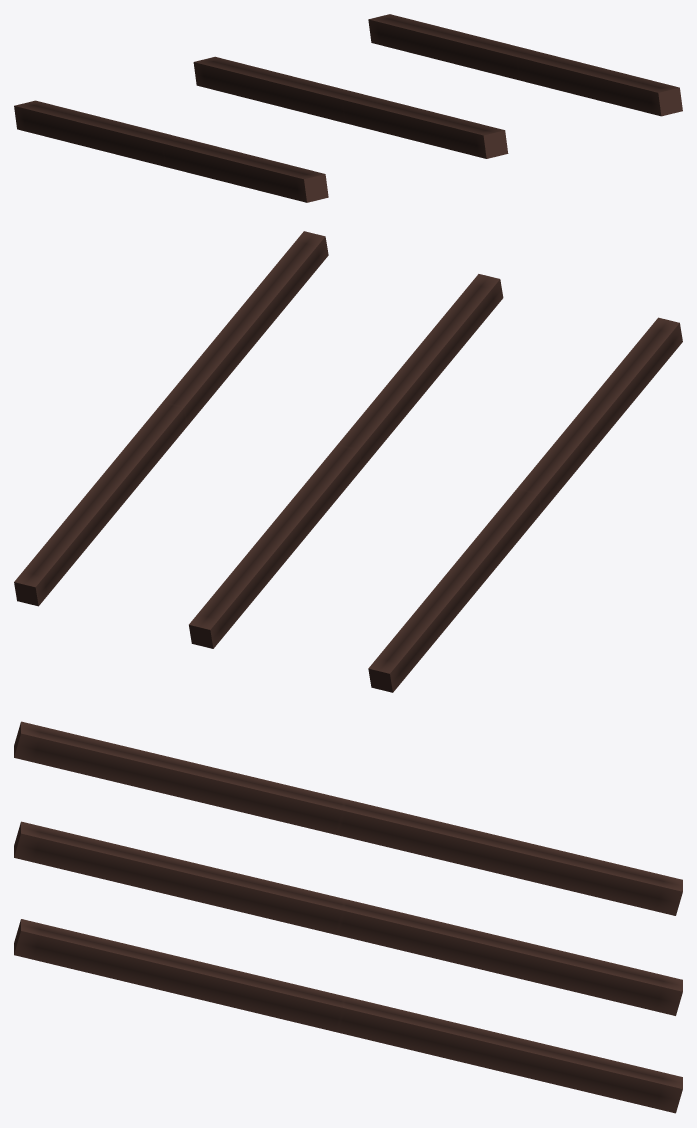
File: roof_beam_v3c001.fbx
3 views of the same model, one above another, from view 1: azimuth 30°, elevation 25°; view 2: azimuth 150°, elevation 25°; view 3: azimuth 270°, elevation 25° (orthographic). The views are drawn at different scales.
Visible parts, largest first — view 1: roof_beam_v3c001; view 2: roof_beam_v3c001; view 3: roof_beam_v3c001.
Boxes of the visible parts, x1=… form: roof_beam_v3c001: x1=14, y1=14, x2=682, y2=202; roof_beam_v3c001: x1=14, y1=231, x2=682, y2=692; roof_beam_v3c001: x1=14, y1=721, x2=682, y2=1113.
Size of the model in its own units: 467 by 190 by 631.
